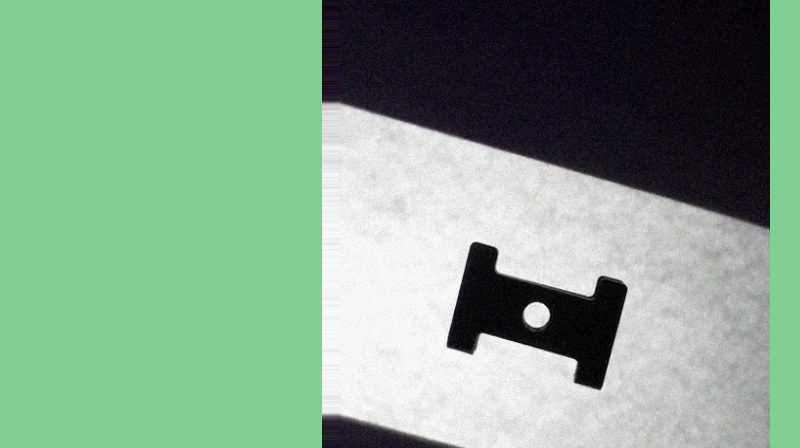O002: (442, 234, 628, 396)
